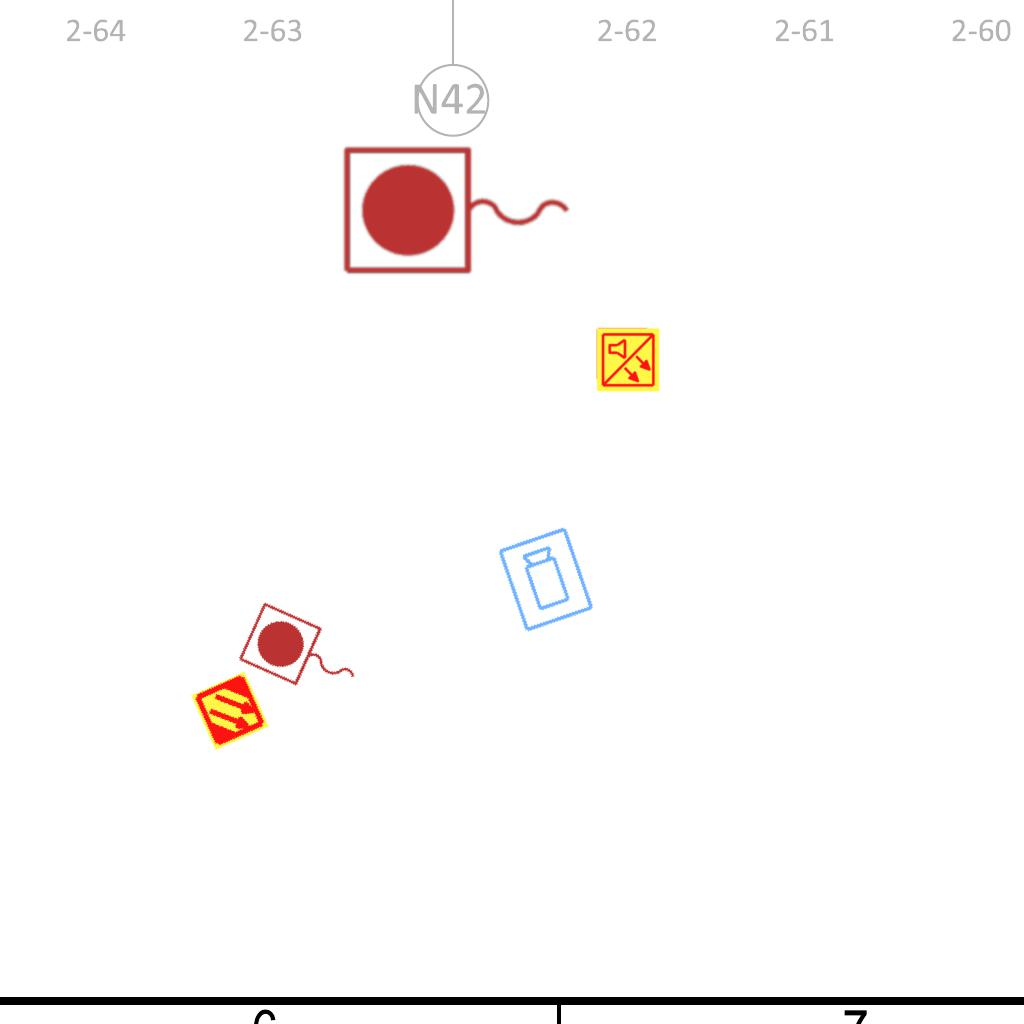ASR_Ansaugrauchmelder: (189, 670, 271, 752)
KFO_Kamera_mit_Festobjektiv: (495, 523, 598, 636)
OKW_Multisensormelder_(Kombination_optischer_Rauch-Kahlenmonoxid_Waerme-Melder): (595, 327, 661, 393)
Zugtaster: (336, 140, 580, 284), (232, 597, 374, 713)
